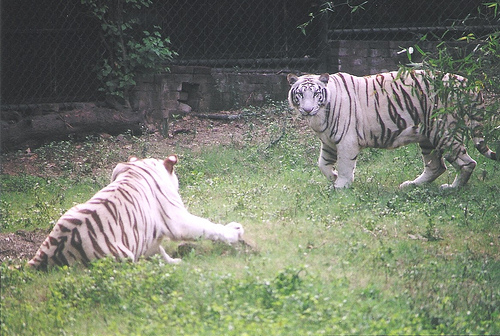Tigre: (19, 150, 255, 269), (286, 64, 419, 179)
